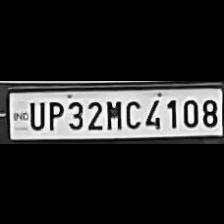0: (179, 95, 199, 127)
1: (162, 96, 178, 128)
2: (85, 98, 103, 130)
3: (65, 96, 84, 130)
4: (142, 96, 162, 128)
8: (199, 95, 219, 127)
C: (122, 96, 142, 128)
M: (104, 96, 122, 130)
P: (45, 97, 63, 130)
U: (25, 97, 45, 128)
